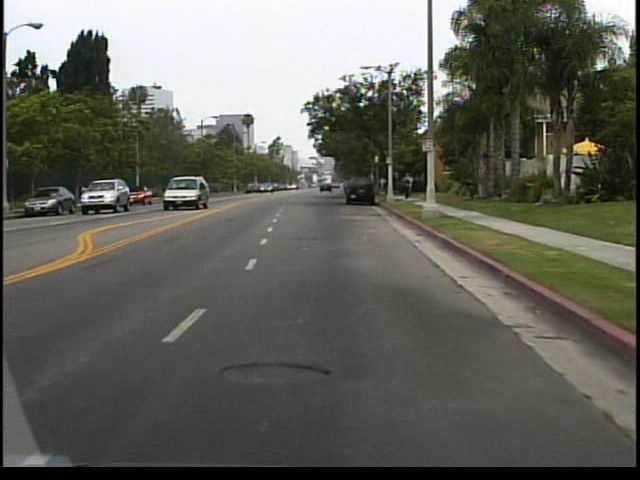person: (403, 170, 417, 200), (401, 175, 411, 201)
